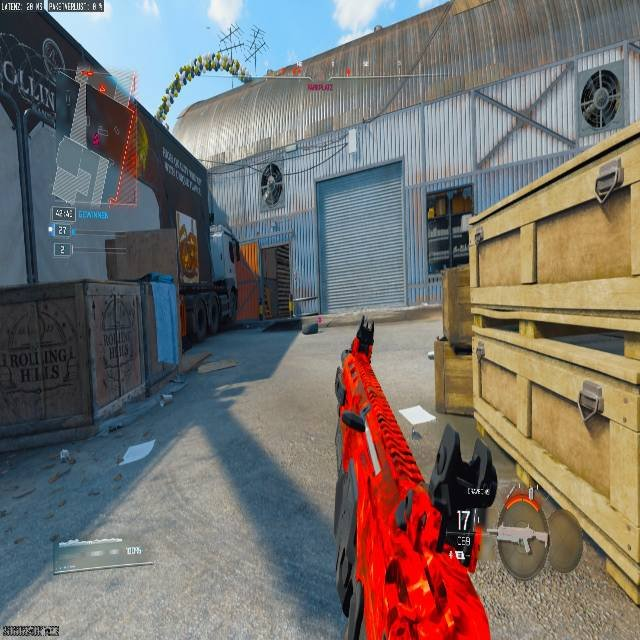player: (261, 163, 282, 206)
